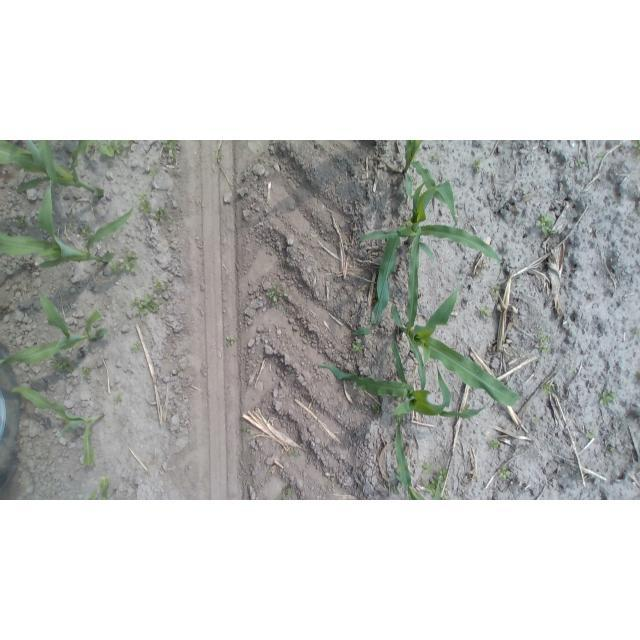Maize: (387, 222, 524, 413), (357, 182, 507, 330), (315, 334, 497, 426), (1, 176, 136, 271), (0, 286, 110, 371), (10, 383, 106, 466), (0, 141, 106, 200), (399, 140, 461, 226), (390, 416, 449, 501), (83, 474, 124, 500)
Weeds: (423, 468, 449, 498), (132, 294, 163, 317), (50, 355, 79, 374), (534, 212, 556, 237), (265, 284, 291, 304), (159, 141, 181, 164), (104, 140, 131, 158), (122, 249, 139, 275), (537, 327, 552, 356), (134, 191, 152, 215), (598, 390, 619, 409), (154, 206, 169, 225), (151, 279, 169, 294), (583, 426, 601, 441), (488, 435, 501, 453), (81, 367, 96, 382), (286, 445, 301, 460), (278, 486, 294, 500), (238, 424, 255, 437), (472, 157, 485, 174), (148, 165, 162, 179), (108, 261, 123, 274), (223, 335, 237, 348), (566, 364, 580, 377), (351, 337, 364, 351), (392, 414, 402, 431), (132, 339, 145, 352), (497, 467, 511, 479), (575, 158, 590, 169), (479, 303, 490, 318), (80, 224, 93, 236), (540, 382, 552, 395), (113, 392, 123, 407), (422, 461, 434, 473), (17, 218, 30, 229), (598, 151, 611, 162), (371, 402, 382, 414), (65, 220, 76, 231), (630, 140, 640, 152), (279, 257, 289, 268), (430, 151, 440, 162), (492, 283, 502, 294), (608, 444, 617, 455), (532, 417, 541, 427), (633, 326, 640, 338), (405, 218, 414, 226), (216, 153, 223, 163), (175, 366, 182, 375), (281, 309, 288, 316), (636, 369, 640, 381)
